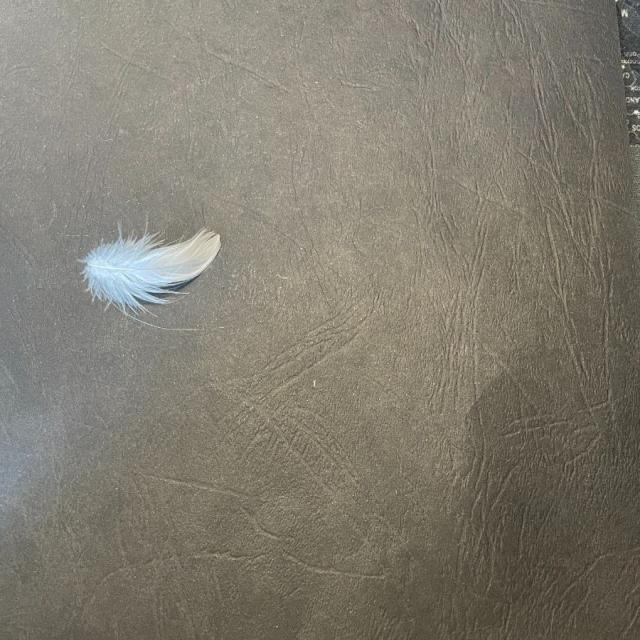feather: (81, 228, 223, 314)
